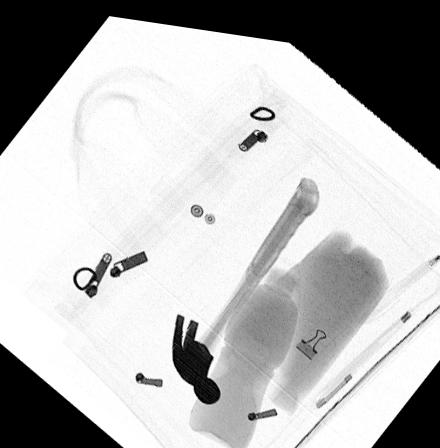Hammer: (170, 167, 321, 398)
